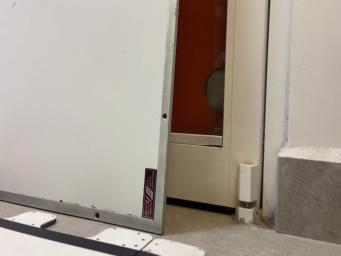street: (0, 219, 151, 256), (0, 219, 151, 256), (0, 219, 151, 256)
